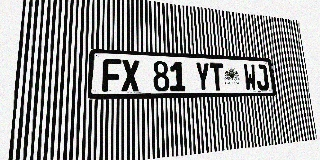1: (169, 61, 186, 91)
8: (153, 60, 170, 91)
F: (102, 58, 121, 92)
J: (255, 64, 269, 90)
T: (209, 63, 225, 91)
W: (243, 64, 257, 90)
X: (122, 59, 140, 92)
Y: (195, 62, 211, 91)
